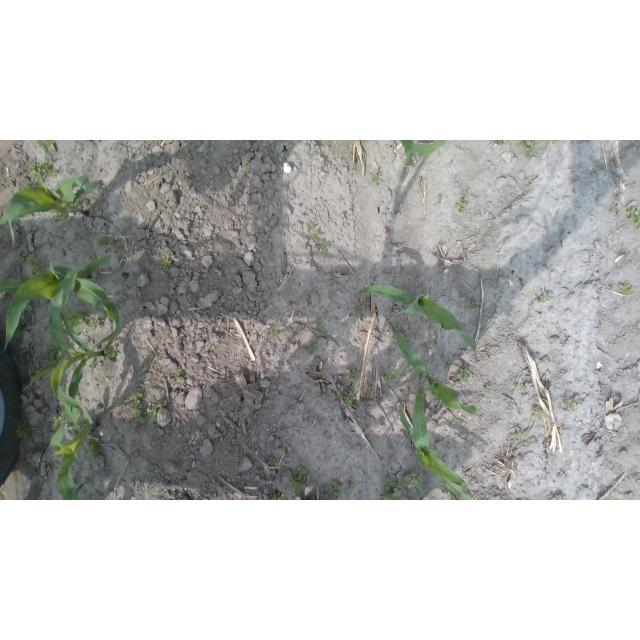Maize: (1, 252, 120, 349), (25, 290, 107, 430), (396, 387, 476, 500), (353, 283, 478, 353), (393, 316, 479, 416), (0, 173, 98, 248), (50, 417, 99, 500), (399, 140, 449, 168), (384, 485, 425, 500), (34, 140, 93, 150)
Weeds: (61, 308, 87, 334), (29, 159, 56, 181), (382, 475, 403, 499), (403, 469, 422, 490), (147, 401, 165, 420), (44, 345, 62, 364), (128, 388, 145, 408), (85, 438, 99, 461), (518, 140, 538, 156), (15, 252, 39, 265), (292, 463, 309, 481), (343, 364, 361, 380), (627, 206, 640, 227), (619, 281, 636, 296), (287, 479, 305, 493), (104, 344, 119, 359), (563, 396, 576, 413), (161, 253, 172, 273), (314, 241, 328, 256), (512, 429, 528, 442), (268, 488, 284, 500), (31, 263, 45, 276), (52, 416, 65, 430), (455, 198, 468, 212), (440, 357, 452, 372), (536, 291, 552, 302), (51, 212, 68, 222), (136, 409, 149, 422), (332, 482, 343, 497), (465, 301, 481, 311), (89, 316, 102, 328), (386, 370, 399, 382), (457, 370, 471, 381), (344, 391, 356, 403), (307, 342, 318, 354), (269, 324, 280, 336), (314, 318, 325, 330), (532, 408, 546, 417), (97, 236, 108, 247), (313, 230, 322, 243), (306, 221, 316, 232), (611, 201, 621, 212), (68, 198, 80, 207), (360, 308, 369, 320), (173, 371, 184, 380), (371, 168, 379, 180), (347, 483, 356, 493), (266, 461, 278, 468), (43, 145, 50, 155), (484, 384, 492, 392), (608, 491, 615, 500), (20, 184, 29, 191), (91, 269, 98, 277), (113, 244, 120, 251), (452, 494, 459, 500), (522, 385, 527, 391), (466, 437, 470, 444), (497, 140, 504, 144), (464, 192, 469, 197), (472, 495, 477, 500), (505, 141, 511, 144), (552, 141, 558, 144)
